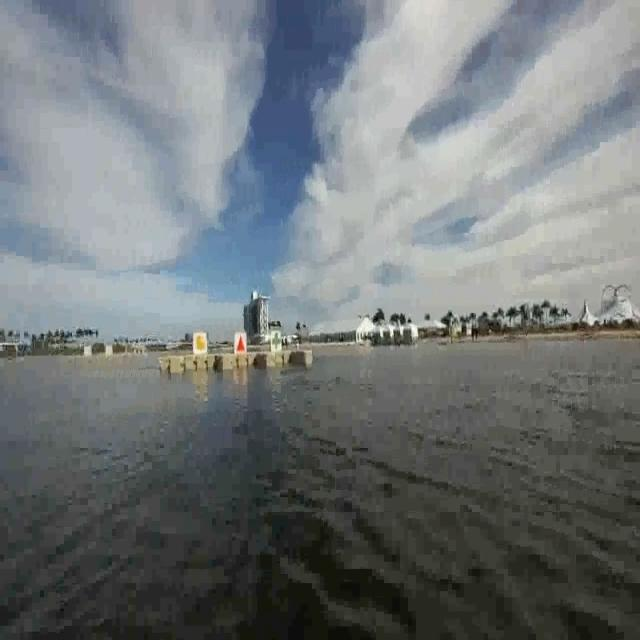blue-cross: (270, 333, 283, 354)
red-dot: (234, 329, 248, 351)
yellow-duck: (193, 330, 210, 356)
